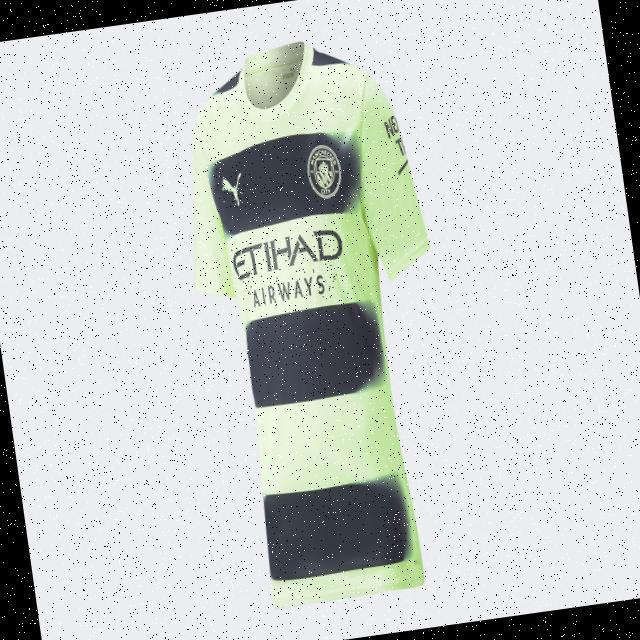Etihad Airways: (230, 225, 350, 311)
Puma: (219, 172, 246, 210)
